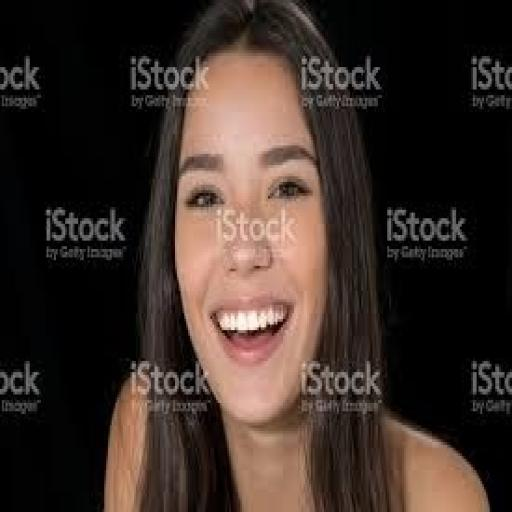laughing: (86, 0, 493, 509)
